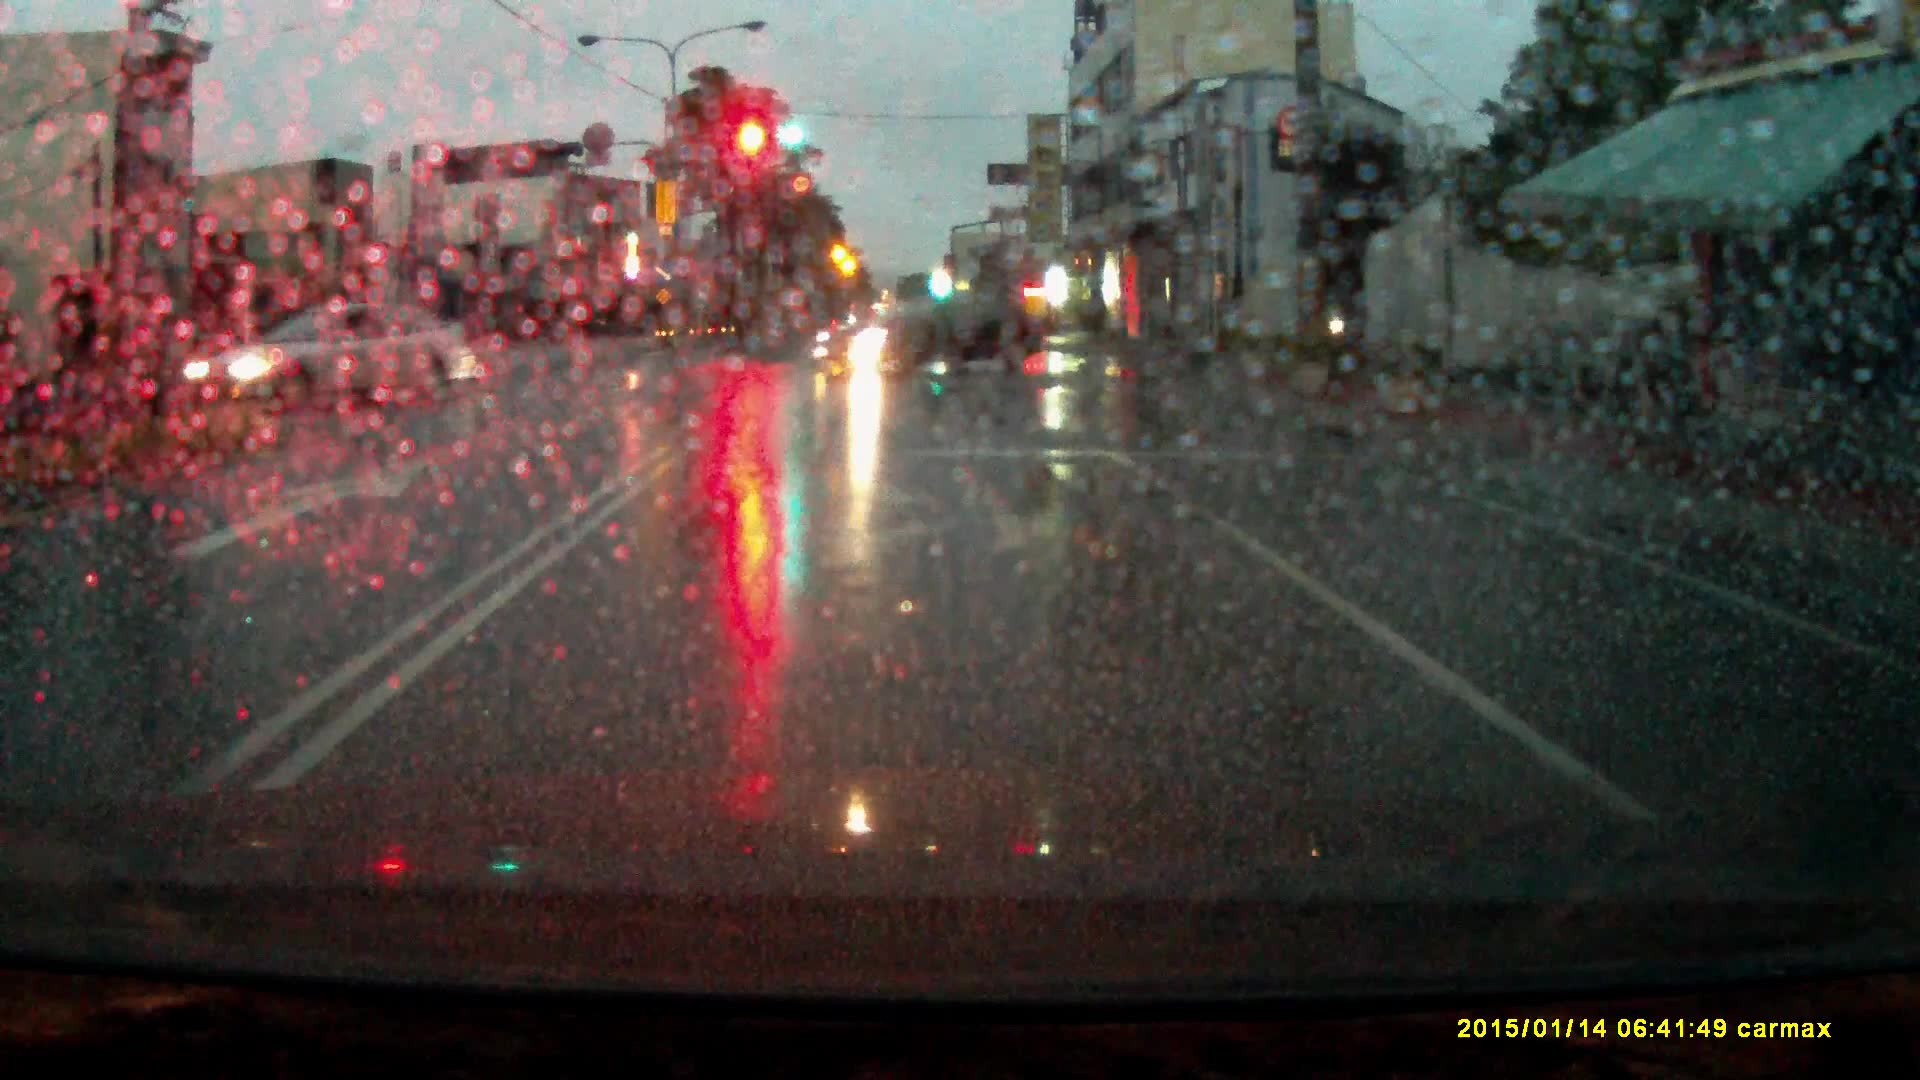vehicle: (171, 299, 479, 404), (818, 289, 1047, 376)
